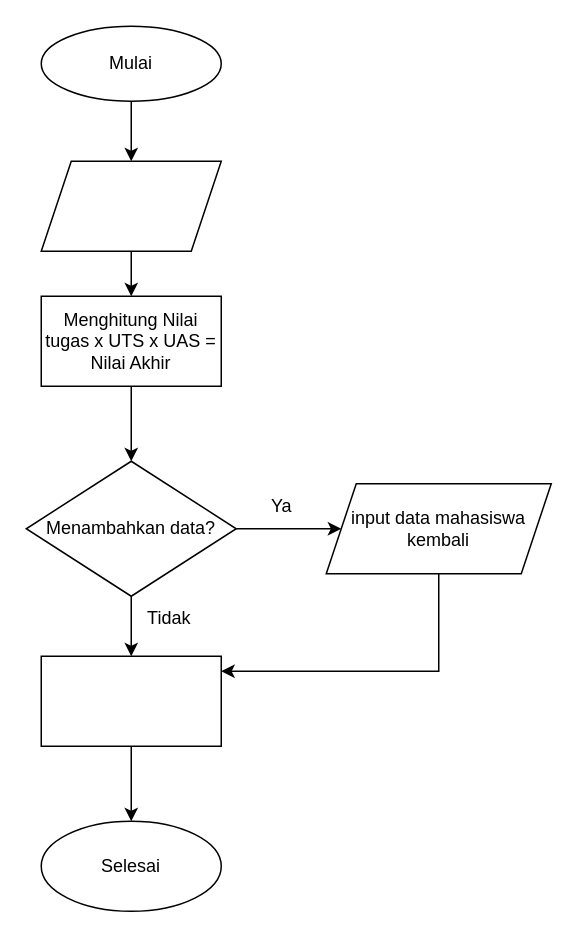
This 578x938 diagram has some shape labels left out. The centre of each missing label's shape, as x and y in pixels:
"input data mahasiswa" goes at point 130,205.
"Menampilkan output data yang telah di input" goes at point 130,700.
